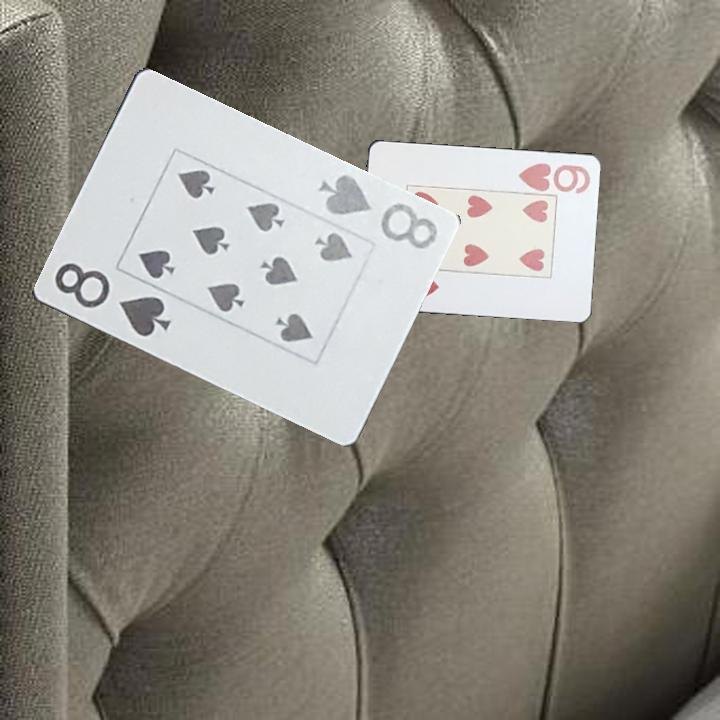6h: (515, 159, 594, 195)
8s: (315, 171, 440, 253), (50, 259, 173, 341)
